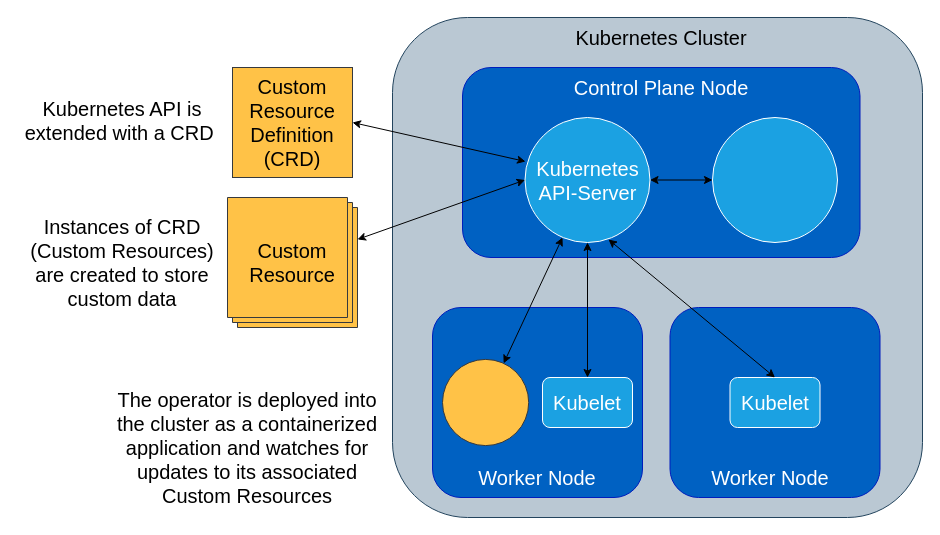
This 940x535 diagram has some shape labels left out. Each missing label, with the centre of its shape:
"Etcd (Storage)" belongs at (x=775, y=179).
"Operator" belongs at (x=485, y=402).
